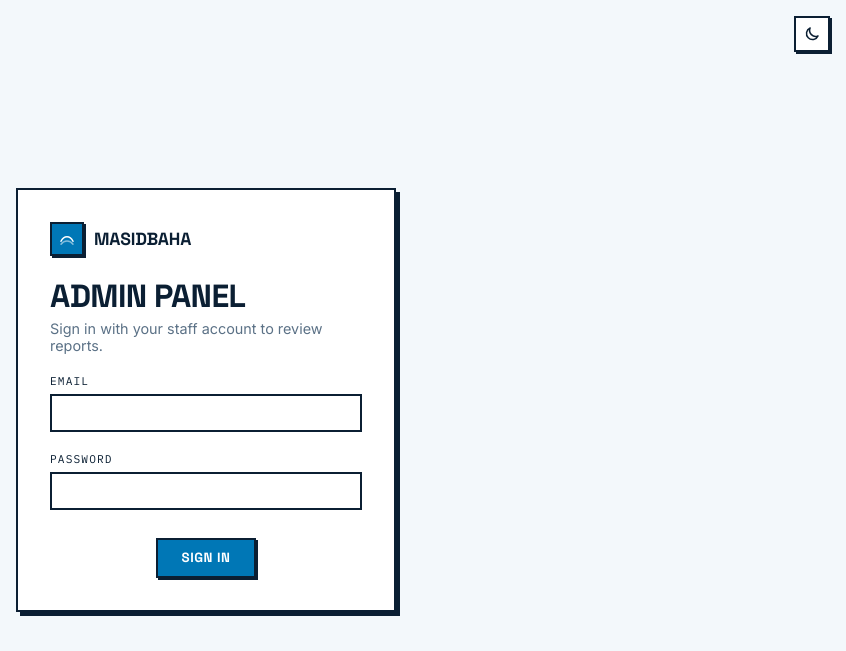
Test: LoginPageComponent › shows the message the API sent when sign-in fails
This screenshot has width=846, height=651.
Type "a@test.local" into the field named "email" at point(206, 413), box 50,394 -> 362,432
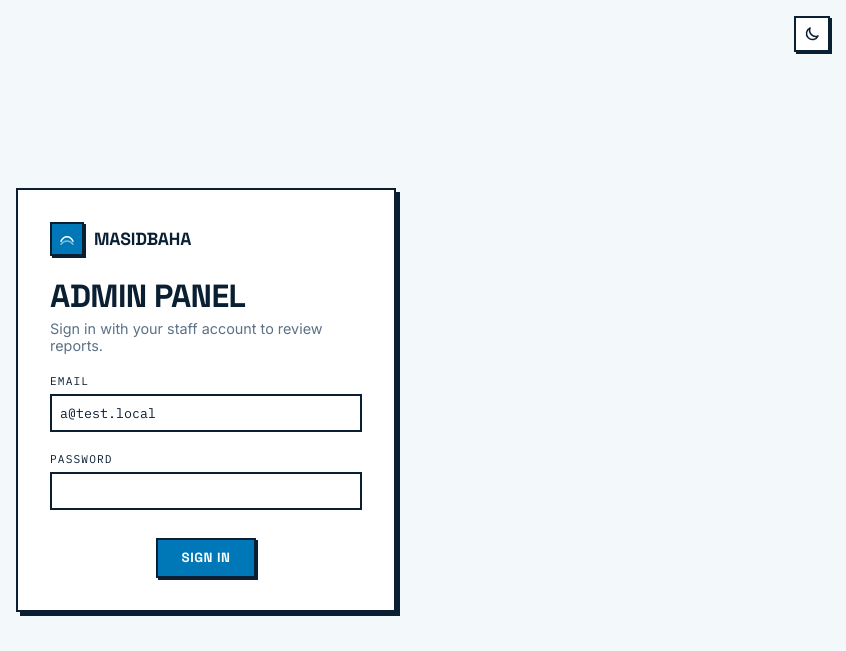
Type "wrong-password" into the password field named "password" at point(206, 490), box 50,472 -> 362,510
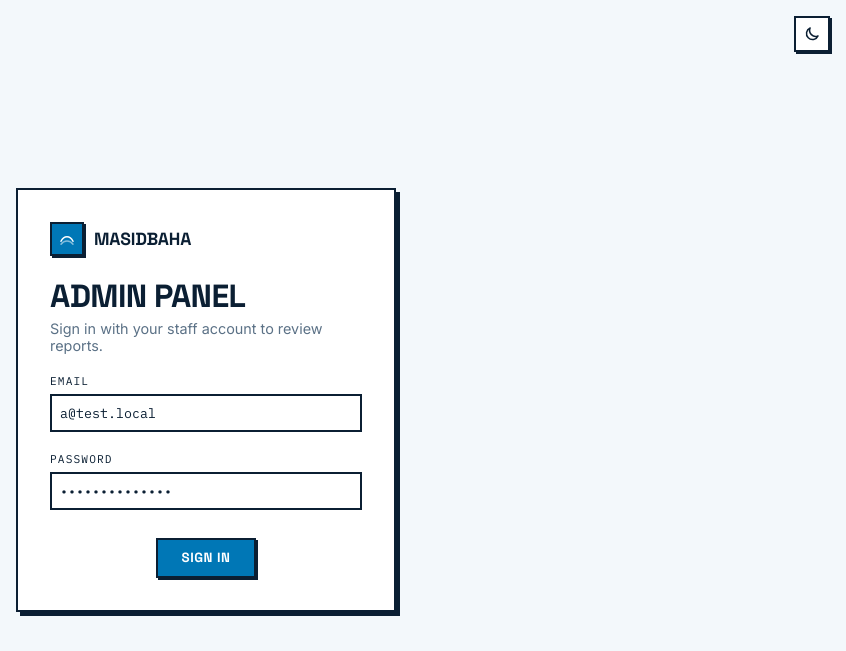
Submit the form, box 16,188 -> 396,612
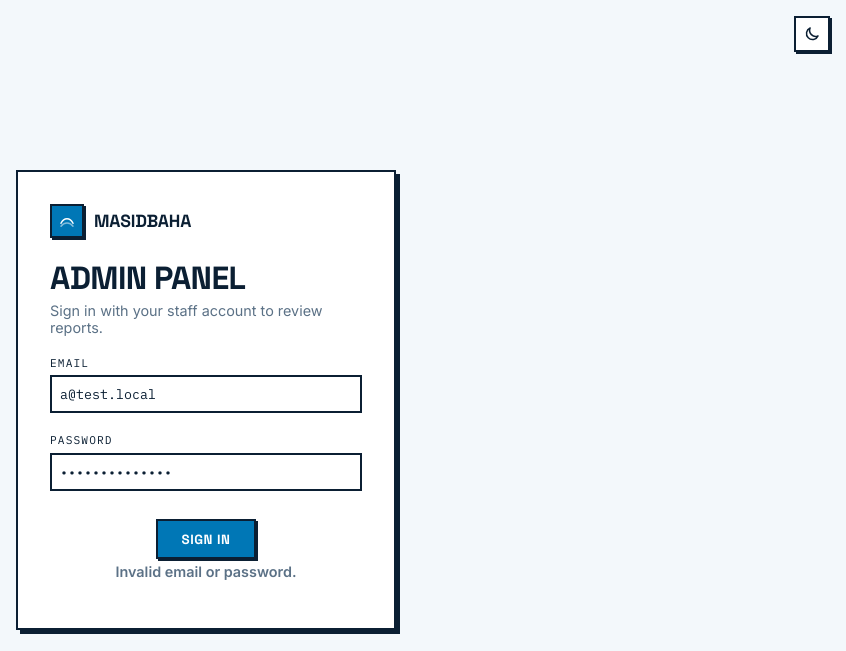
Check: the message "Invalid email or password." is shown, box 116,563 -> 297,580
